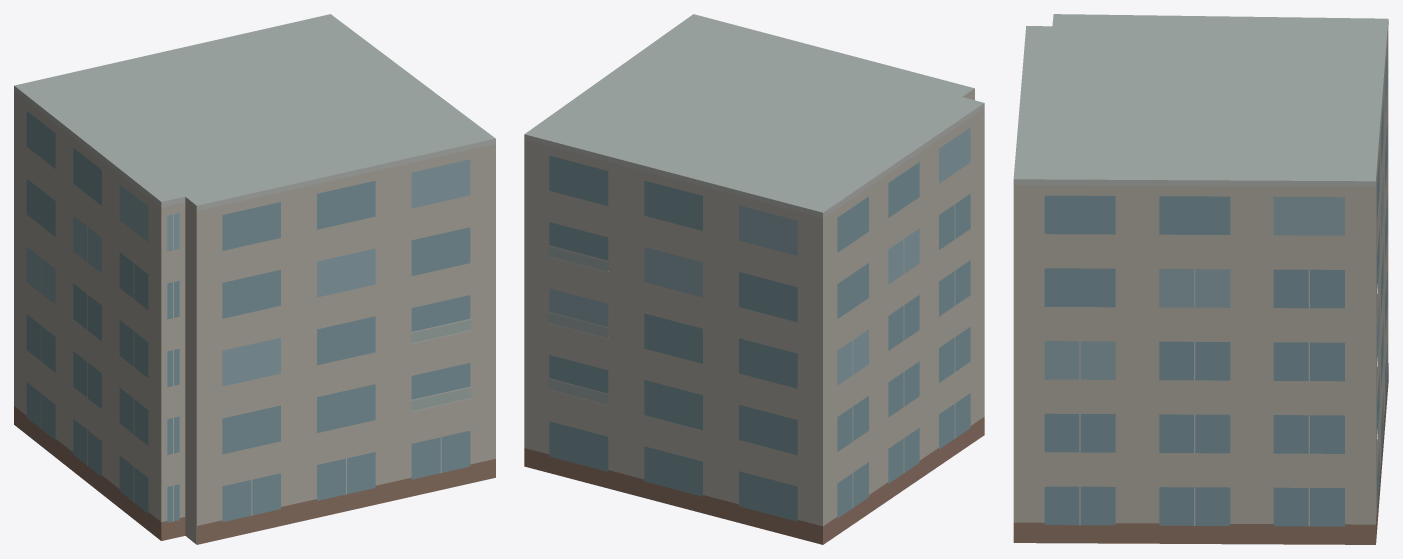
Rendered from survey-upis-32769334.glb.
3 renders of one model, left to right at view 1: azimuth 30°, elevation 25°; view 2: azimuth 150°, elevation 25°; view 3: azimuth 270°, elevation 25°, orthographic. The views are drawn at different scales.
Parts seen in each view (by area): view 1: survey-upis-32769334.tmp; view 2: survey-upis-32769334.tmp; view 3: survey-upis-32769334.tmp.
Part boxes in pixels (<box>): survey-upis-32769334.tmp: <box>14,14,495,544</box>; survey-upis-32769334.tmp: <box>524,14,984,544</box>; survey-upis-32769334.tmp: <box>1013,14,1388,544</box>.
Bounding box in the file's own units: 15.05 × 15.25 × 14.26.
